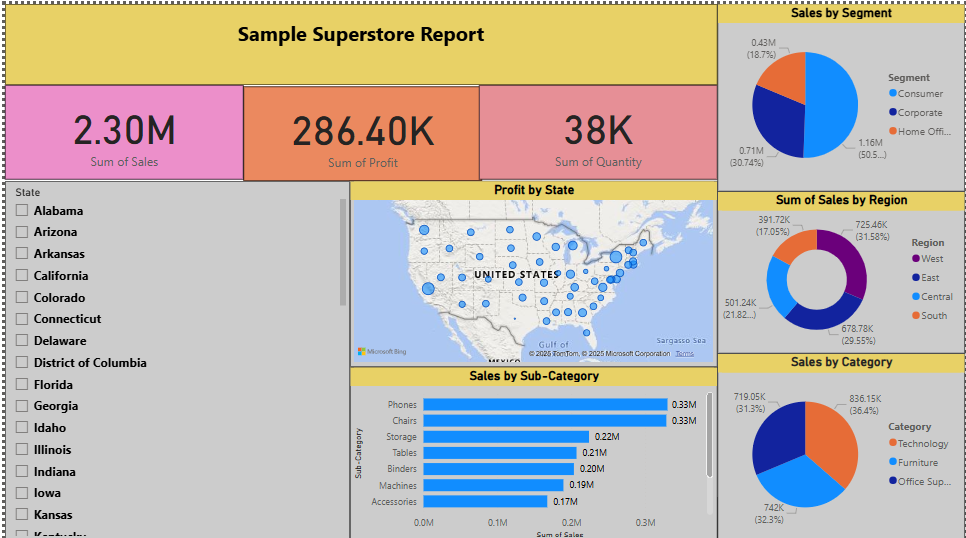

Layout of this report page (visuals, bound fields, positions):
{"tool":"powerbi","page":{"name":"Page 1","canvas":[1280,720],"ordinal":0},"visuals":[{"type":"card","fields":{"Values":["Sum(Sample - Superstore.Sales)"]},"box":[0,108,318,126],"z":0},{"type":"card","fields":{"Values":["Sum(Sample - Superstore.Profit)"]},"box":[318,110,318,126],"z":1},{"type":"card","fields":{"Values":["Sum(Sample - Superstore.Quantity)"]},"box":[632,108,318,126],"z":2},{"type":"pieChart","title":"Sales by Category","fields":{"Category":["Sample - Superstore.Category"],"Y":["Sum(Sample - Superstore.Sales)"]},"box":[950,466,330,250],"z":3},{"type":"donutChart","fields":{"Category":["Sample - Superstore.Region"],"Y":["Sum(Sample - Superstore.Sales)"]},"box":[950,250,330,216],"z":4},{"type":"barChart","title":" Sales by Sub-Category","fields":{"Y":["Sum(Sample - Superstore.Sales)"],"Category":["Sample - Superstore.Sub-Category"]},"box":[460,484,490,236],"z":5},{"type":"map","title":"Profit by State","fields":{"Size":["Sum(Sample - Superstore.Profit)"],"Category":["Sample - Superstore.State"]},"box":[460,236,490,248],"z":6},{"type":"pieChart","title":" Sales by Segment","fields":{"Y":["Sum(Sample - Superstore.Sales)"],"Category":["Sample - Superstore.Segment"]},"box":[950,0,330,250],"z":7},{"type":"textbox","box":[0,0,950,108],"z":8},{"type":"slicer","fields":{"Values":["Sample - Superstore.State"]},"box":[0,236,460,480],"z":9}]}

Visuals, with their boxes in screenshot pixels (x1, y1, x2, y2), scaled from the page's 1280x720 canvas onto the 966x538 screenshot:
card - Sum(Sample - Superstore.Sales): 0, 81, 240, 175
card - Sum(Sample - Superstore.Profit): 240, 82, 480, 176
card - Sum(Sample - Superstore.Quantity): 477, 81, 717, 175
"Sales by Category" pieChart: 717, 348, 965, 535
donutChart - Sample - Superstore.Region x Sum(Sample - Superstore.Sales): 717, 187, 965, 348
" Sales by Sub-Category" barChart: 347, 362, 717, 537
"Profit by State" map: 347, 176, 717, 362
" Sales by Segment" pieChart: 717, 0, 965, 187
textbox: 0, 0, 717, 81
slicer - Sample - Superstore.State: 0, 176, 347, 535
